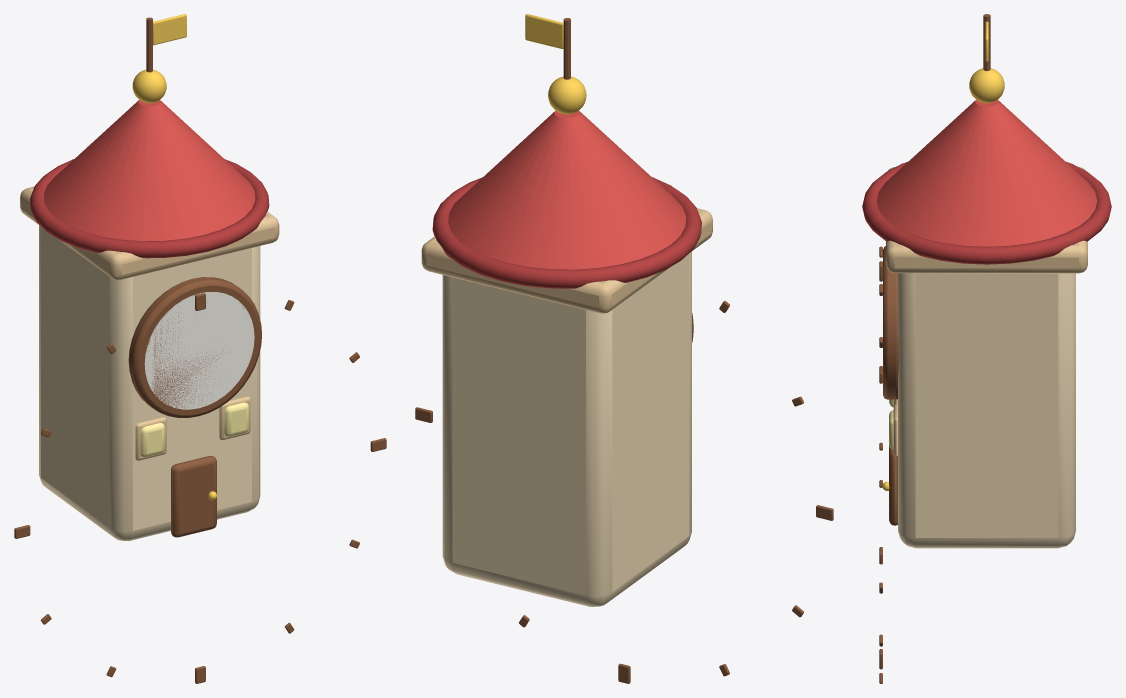
Rendered from stage-tower.glb.
The picture shows the model from 3 angles, left to right: view 1: azimuth 30°, elevation 25°; view 2: azimuth 150°, elevation 25°; view 3: azimuth 270°, elevation 25°; orthographic projection. The views are drawn at different scales.
Visible parts, largest first — view 1: Body, Roof, ClockFace, ClockRim, RoofRim, Band, Door, Finial, Flag, Win8, Win-8; view 2: Body, Roof, RoofRim, Band, Finial, Flag; view 3: Body, Roof, RoofRim, Band, ClockRim, Finial, Door.
Part boxes in pixels (x1,y1,x2,y2): Body: (39,225,260,540); Roof: (44,100,255,241); ClockFace: (144,292,254,409); ClockRim: (128,277,261,417); RoofRim: (30,159,269,258); Band: (20,186,279,280); Door: (171,456,216,537); Finial: (132,69,166,103); Flag: (153,14,186,45); Win8: (224,402,248,436); Win-8: (140,423,164,457); Body: (442,251,691,606); Roof: (448,110,686,269); RoofRim: (432,177,701,288); Band: (421,208,712,313); Finial: (548,76,586,114); Flag: (525,14,563,48); Body: (898,273,1075,548); Roof: (876,100,1097,246); RoofRim: (862,161,1111,264); Band: (886,167,1087,273); ClockRim: (883,246,898,399); Finial: (969,68,1004,103); Door: (889,445,897,525).
Bounding box in the file's own units: 0.75 × 1.21 × 0.42.
